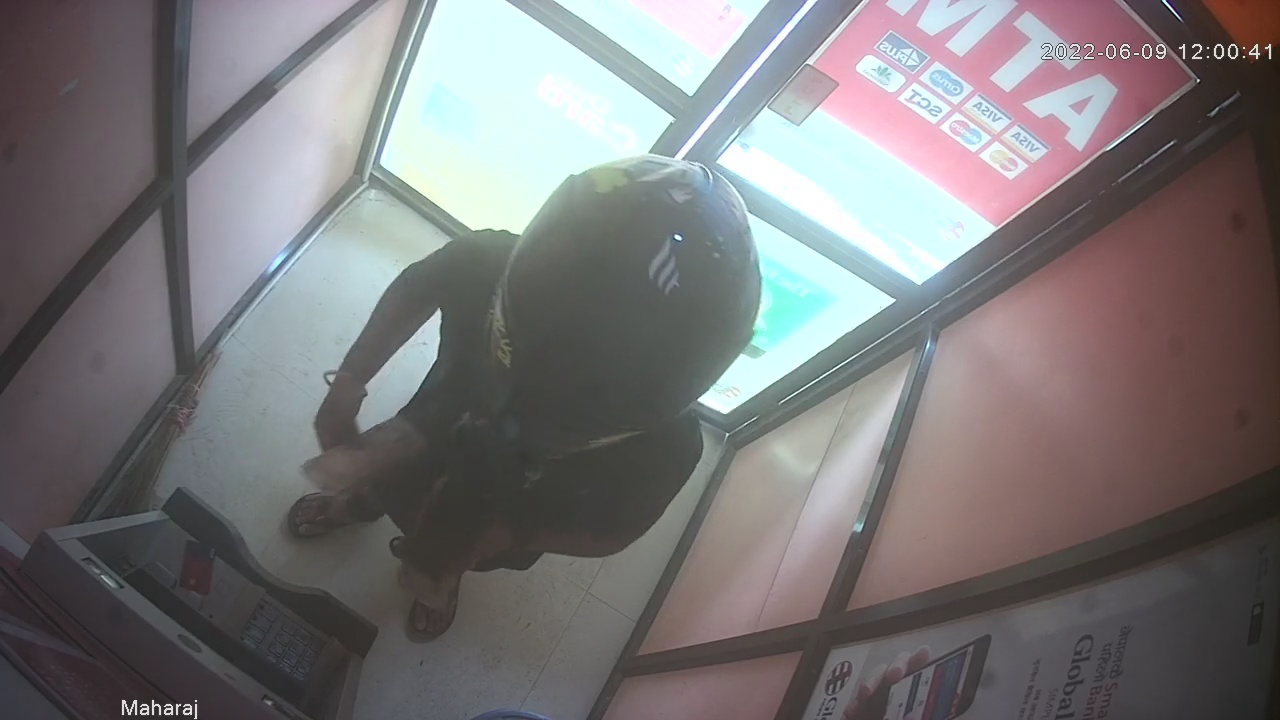helmet: (477, 150, 760, 475)
person: (285, 151, 763, 645)
